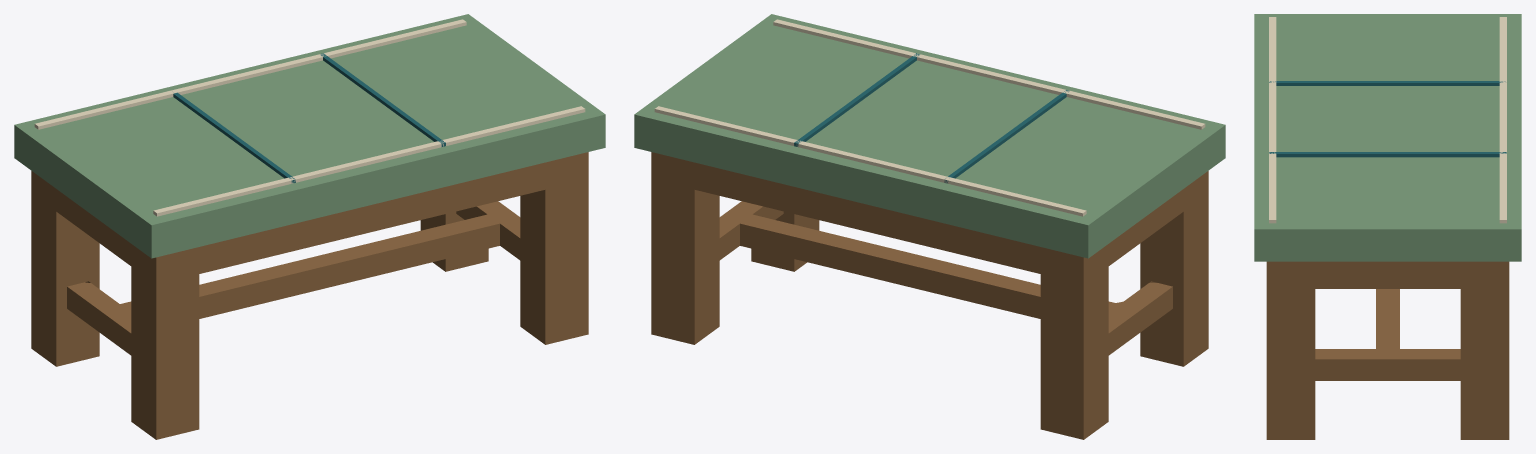
The model's file is benchCushionLow.glb.
3 views of the same model, side by side, from view 1: azimuth 30°, elevation 25°; view 2: azimuth 150°, elevation 25°; view 3: azimuth 270°, elevation 25° (orthographic). The views are drawn at different scales.
Visible parts, largest first — view 1: benchCushionLow(Clone); view 2: benchCushionLow(Clone); view 3: benchCushionLow(Clone).
Part boxes in pixels (<box>): benchCushionLow(Clone): <box>14,14,605,439</box>; benchCushionLow(Clone): <box>634,14,1225,439</box>; benchCushionLow(Clone): <box>1254,14,1521,439</box>.
Bounding box in the file's own units: 0.42 × 0.2 × 0.22.
